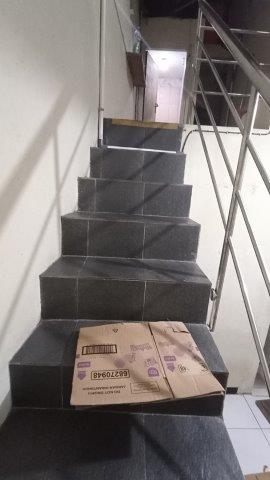kardus: (72, 322, 224, 407)
